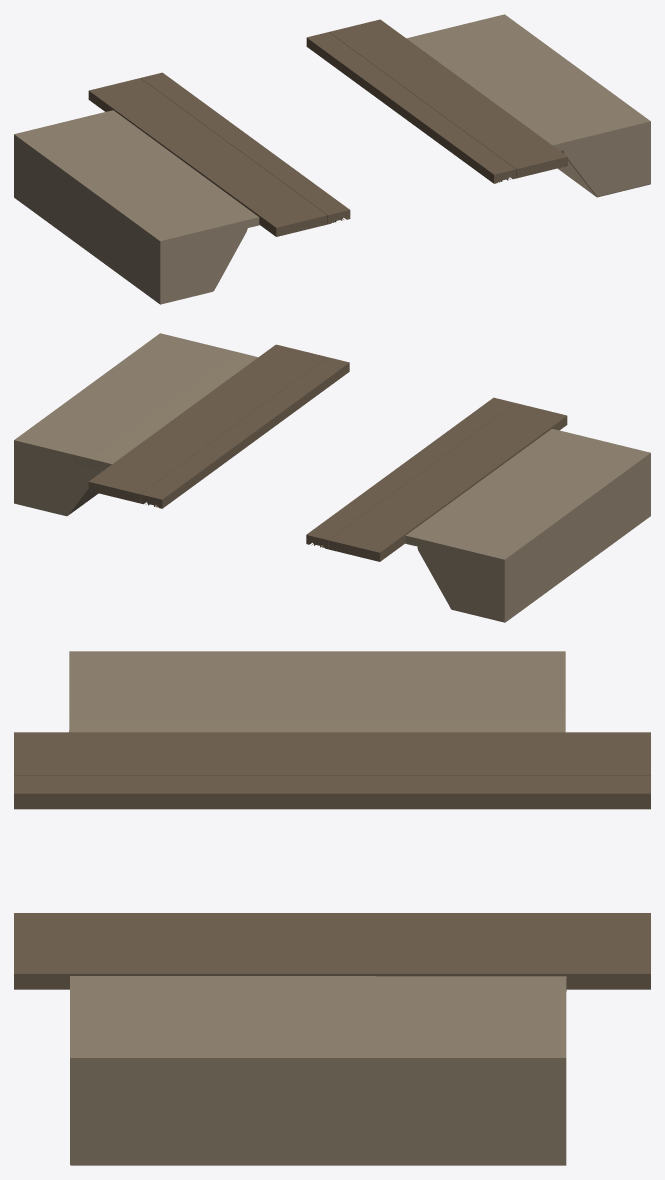
The model's file is DoorRoof.fbx.
The picture shows the model from 3 angles, top to bottom: view 1: azimuth 30°, elevation 25°; view 2: azimuth 150°, elevation 25°; view 3: azimuth 270°, elevation 25°; orthographic projection. The views are drawn at different scales.
Parts seen in each view (by area): view 1: polySurface298_ncl1_1; view 2: polySurface298_ncl1_1; view 3: polySurface298_ncl1_1.
Part boxes in pixels (bbox=[...]): polySurface298_ncl1_1: bbox=[14, 14, 650, 304]; polySurface298_ncl1_1: bbox=[14, 333, 650, 622]; polySurface298_ncl1_1: bbox=[14, 651, 650, 1165].
Bounding box in the file's own units: 1621 × 203 × 1073.
